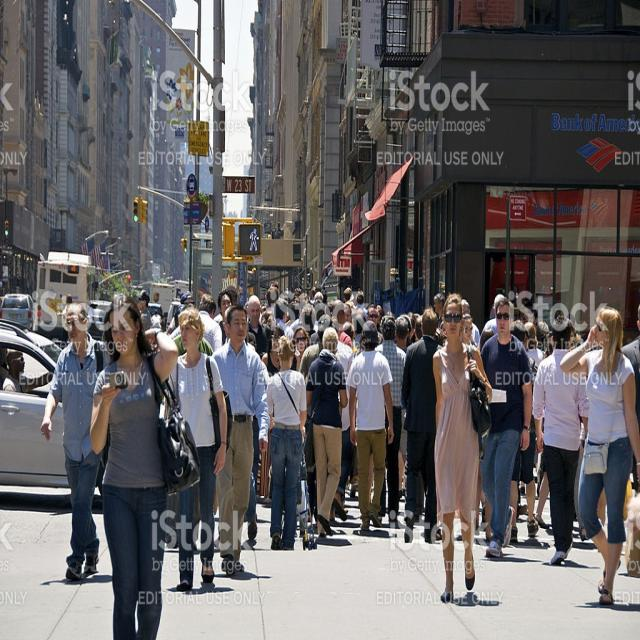body: (88, 289, 203, 639), (558, 301, 640, 609), (162, 305, 234, 596), (167, 275, 446, 349), (429, 291, 494, 605), (40, 301, 112, 583), (207, 301, 272, 577), (471, 295, 534, 561), (530, 312, 592, 568), (454, 459, 598, 565), (398, 305, 451, 545), (213, 306, 259, 551), (344, 318, 395, 533), (213, 500, 406, 552), (303, 324, 349, 542), (265, 332, 307, 552), (459, 292, 592, 356), (508, 317, 540, 544), (373, 314, 406, 522), (404, 312, 434, 525), (326, 339, 356, 523), (620, 303, 640, 494), (243, 330, 261, 527), (393, 316, 411, 504), (298, 312, 342, 384), (165, 566, 259, 596), (2, 348, 53, 393), (244, 294, 272, 361), (197, 292, 223, 352), (570, 599, 639, 620), (260, 326, 286, 378), (447, 589, 502, 609), (217, 288, 235, 346), (289, 324, 310, 372), (55, 292, 74, 344), (354, 289, 368, 344), (136, 289, 154, 331), (342, 285, 356, 309), (150, 308, 162, 328)
